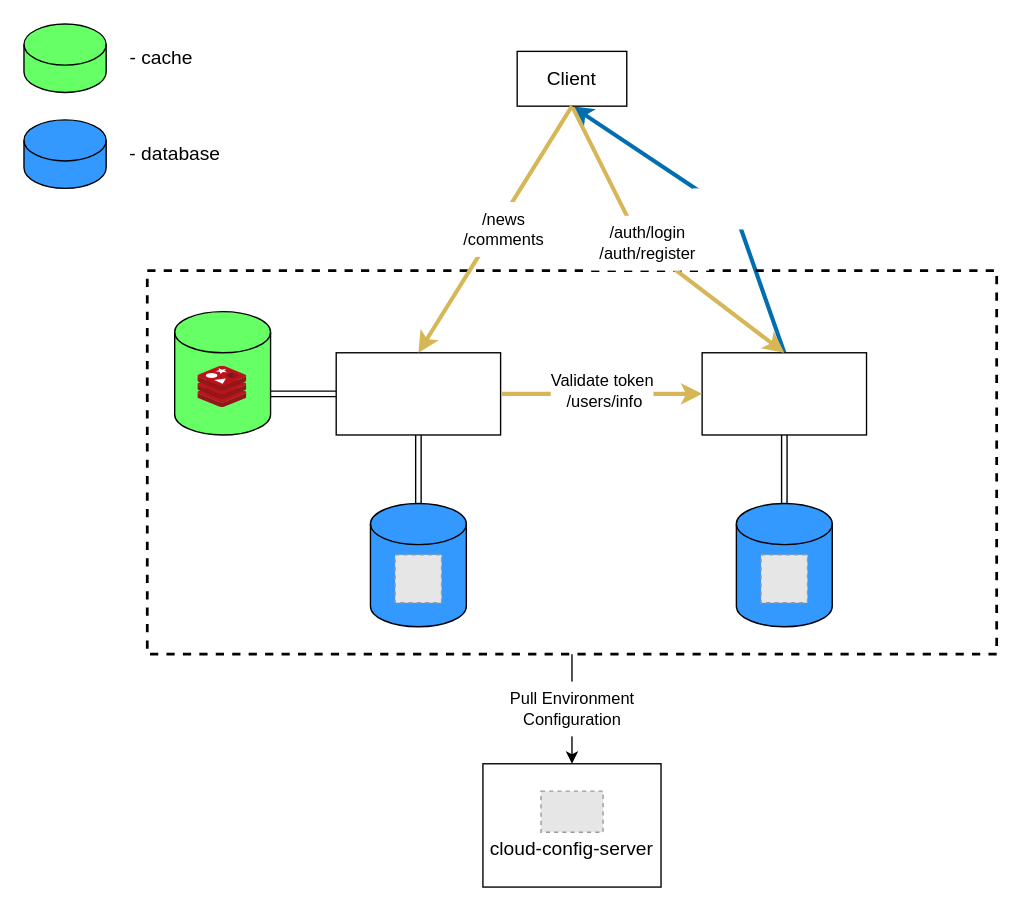
Image size: 1022x911. Some labels were removed from this diagram. Grey dashed boxes stand in for pictures. Each missing label, with the centre of its shape:
"JWT" belongs at [726,208].
"news-service" belongs at [418,393].
"user-service" belongs at [784,393].
